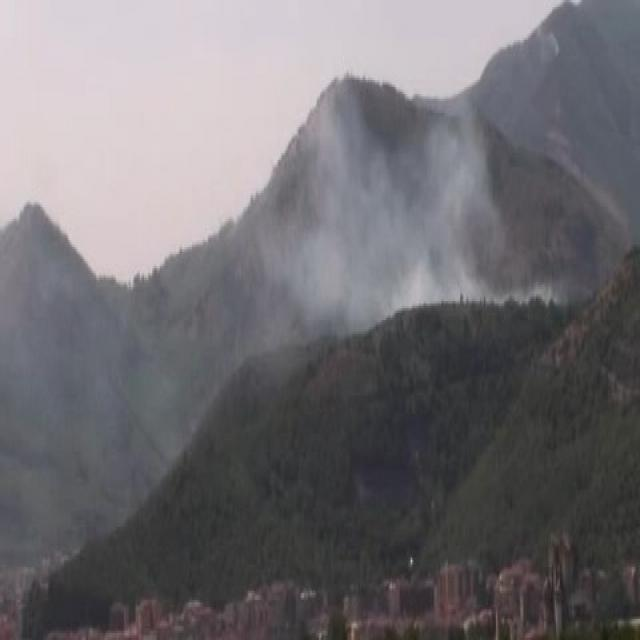smoke: (271, 93, 490, 336)
